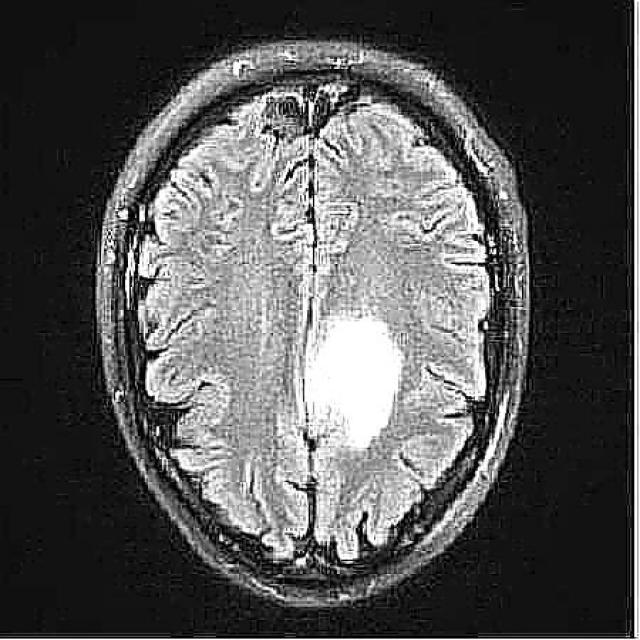tumor: (299, 314, 404, 456)
